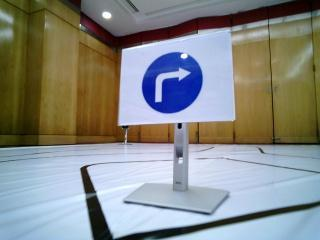right: (125, 52, 217, 114)
